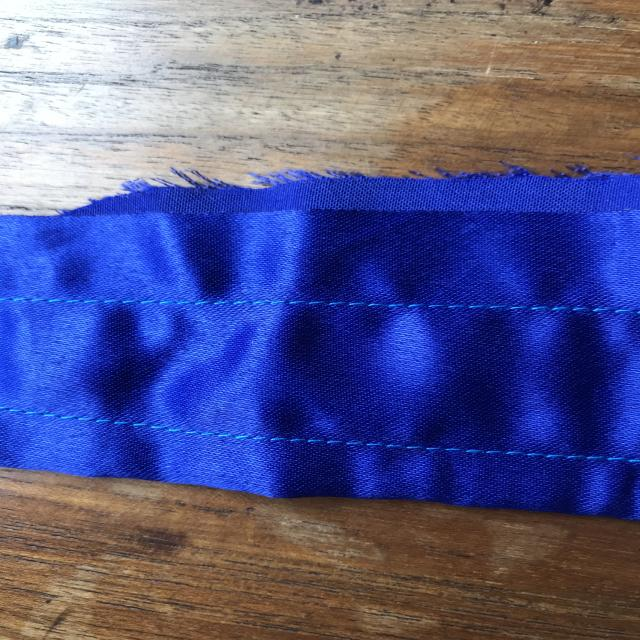good: (319, 430, 576, 478), (326, 294, 565, 324)
